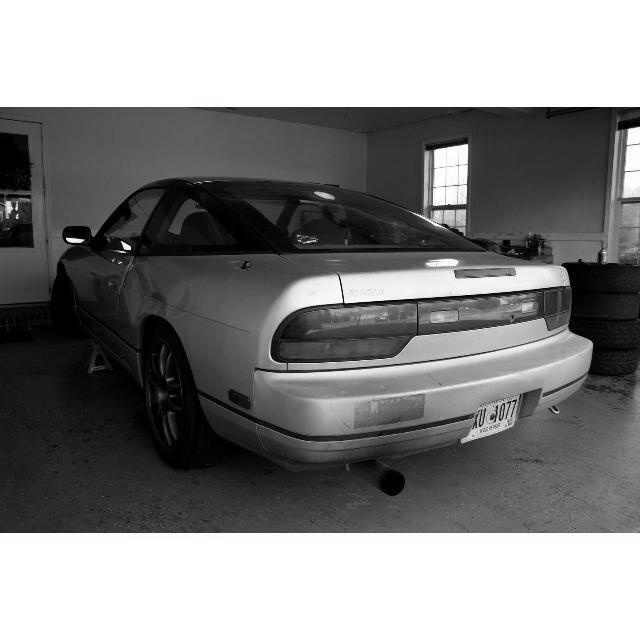quaterpanel-dent: (127, 259, 242, 339)
